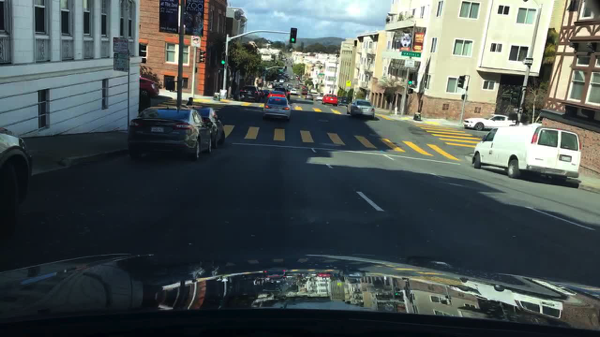car: (471, 124, 581, 184), (126, 107, 212, 160), (1, 127, 33, 237), (195, 107, 225, 149), (462, 114, 523, 132), (346, 99, 376, 121), (264, 97, 290, 121), (140, 76, 159, 96), (239, 86, 261, 102), (139, 88, 151, 114), (321, 95, 337, 106), (266, 90, 286, 97), (338, 96, 350, 106), (274, 88, 286, 95), (309, 88, 317, 95), (303, 95, 314, 100), (290, 87, 296, 96), (315, 95, 322, 101), (287, 88, 290, 100), (266, 83, 272, 89), (259, 90, 264, 97), (301, 90, 308, 94), (264, 88, 268, 95), (294, 84, 298, 90), (286, 83, 292, 87), (297, 81, 303, 85), (279, 79, 283, 84)
person: (185, 96, 193, 107)
traffic light: (510, 86, 520, 105), (506, 111, 519, 121), (289, 28, 297, 44), (457, 74, 465, 88), (197, 49, 204, 64), (165, 81, 176, 90), (220, 52, 227, 66), (461, 94, 466, 100), (408, 88, 412, 95), (407, 81, 412, 85)
traffic sign: (114, 37, 129, 53), (115, 55, 128, 71), (401, 51, 421, 57), (190, 36, 199, 48), (403, 60, 415, 67), (523, 59, 532, 65), (345, 80, 350, 87), (317, 74, 324, 79), (328, 76, 334, 81), (257, 78, 262, 83)
